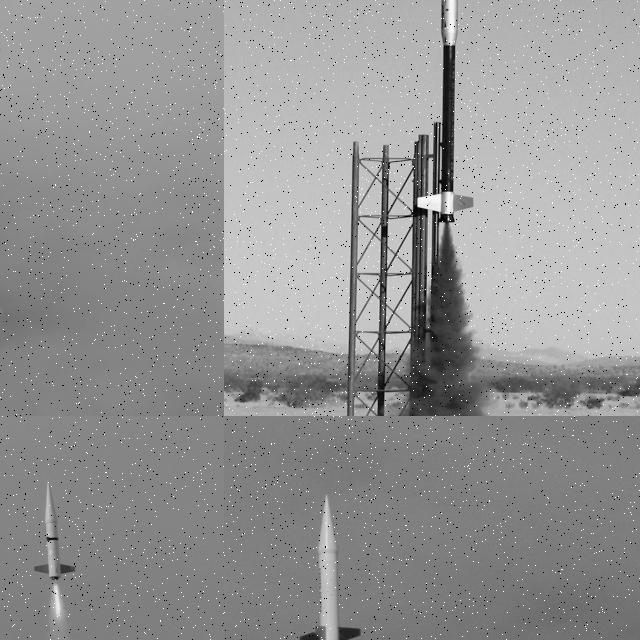Rocket: (414, 0, 475, 224), (298, 494, 362, 640), (34, 480, 77, 580)
